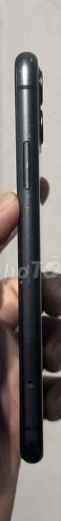scratch: (16, 186, 41, 353), (16, 53, 43, 142)
